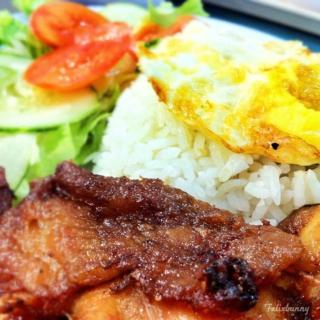tomato: (19, 36, 130, 94), (30, 0, 114, 49)
